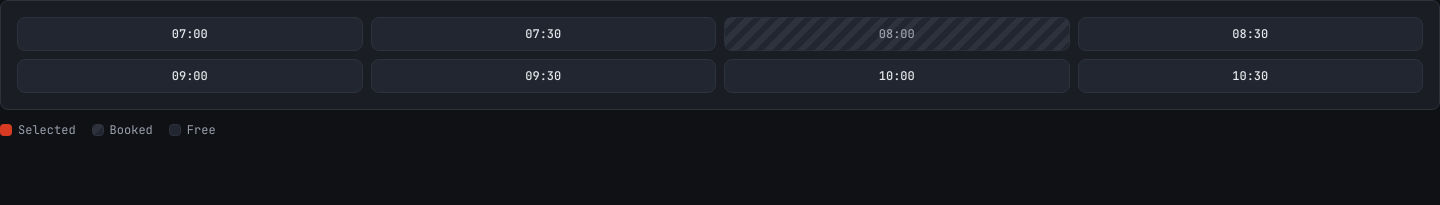
Test: SlotGrid › shows inline reason when nextSelection returns one
# Clicking booked cell triggers inline reason
Click the cell "08:00".
click(897, 34)  # box [724,17,1070,51]
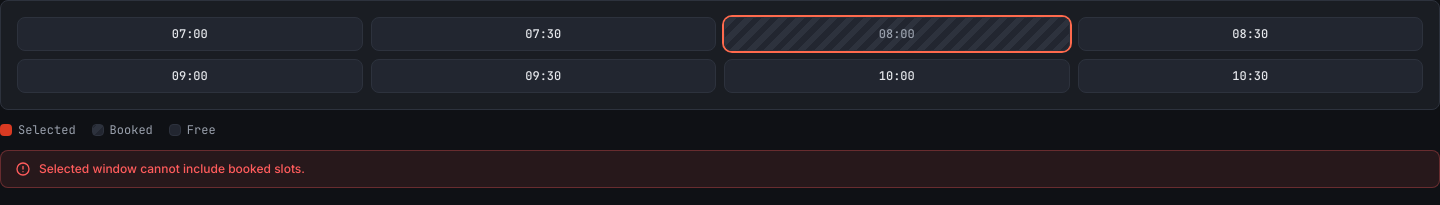
Expected: the message "Selected window cannot include booked slots." is shown, [0,150,1439,188]
Expected: the message with test id "slot-grid-reason" shows "cannot include booked slots", [39,161,305,176]
